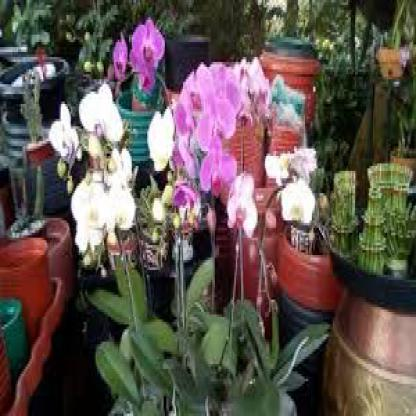ANGGREK: (39, 48, 322, 286)
